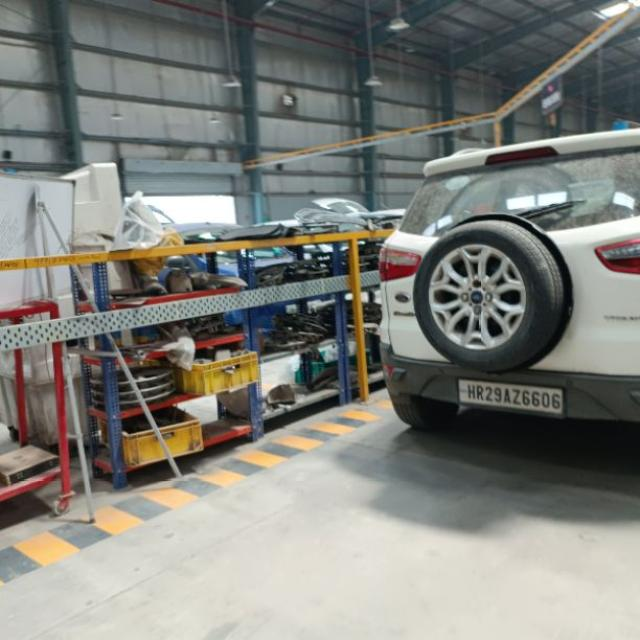license_plate: (455, 377, 566, 418)
